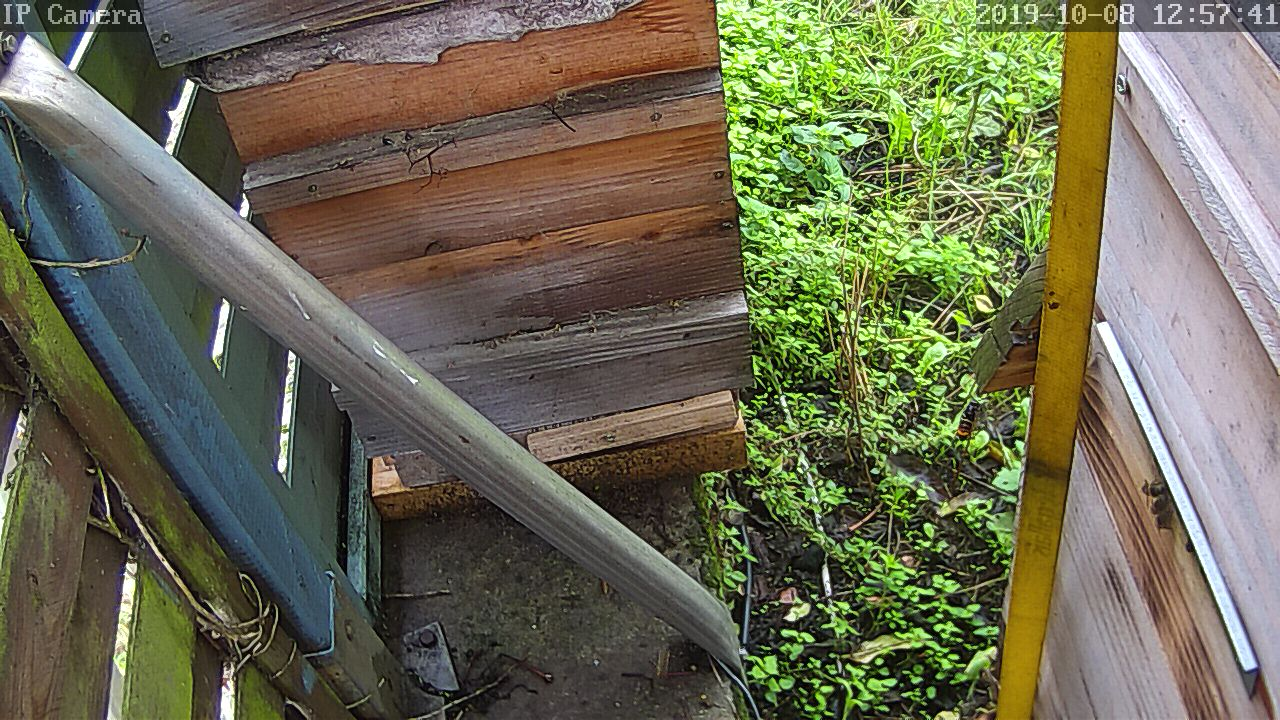bee: (1135, 477, 1184, 532)
hornet: (954, 399, 981, 447)
